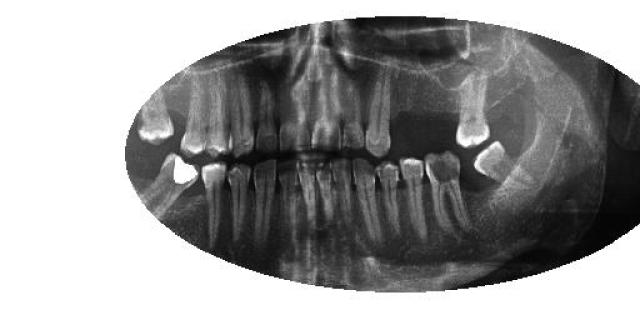Cavity: (425, 150, 470, 234)
Fillings: (140, 152, 198, 218)
Restorations: (138, 152, 198, 218), (474, 141, 530, 194)
